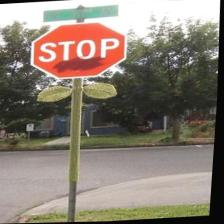Stop: (30, 21, 130, 80)
